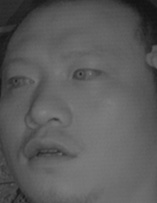eye: (6, 71, 36, 92), (71, 63, 102, 83)
mouth: (21, 133, 83, 170)
